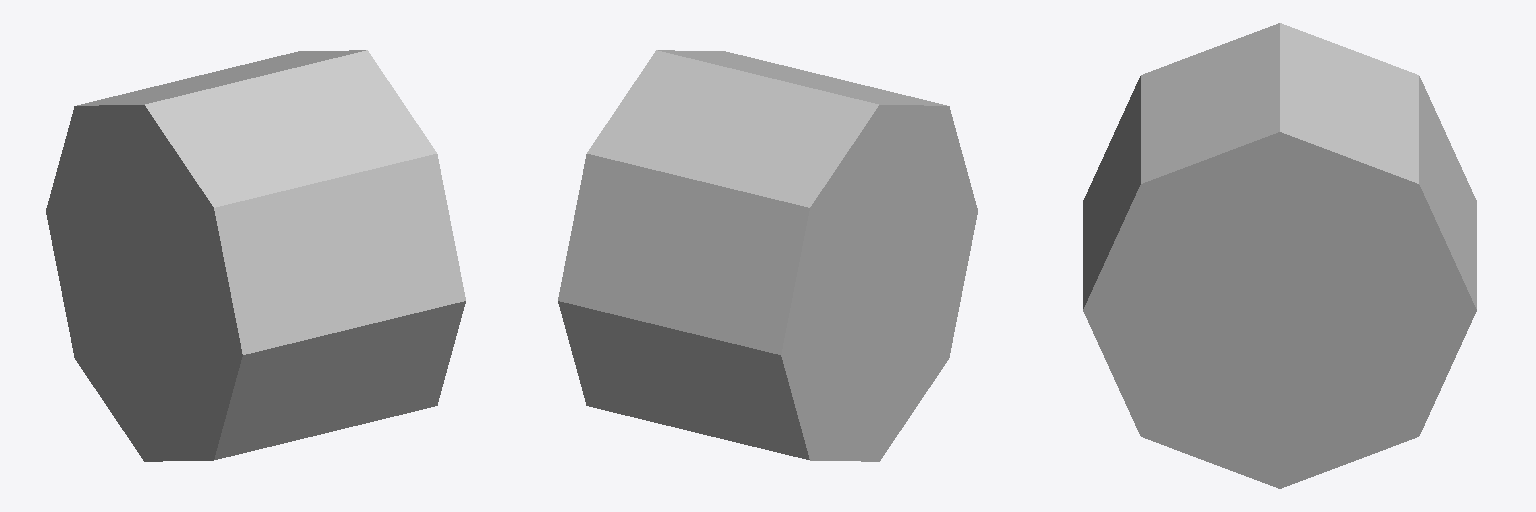
The model's file is WheelRearL.obj.
3 views of the same model, side by side, from view 1: azimuth 30°, elevation 25°; view 2: azimuth 150°, elevation 25°; view 3: azimuth 270°, elevation 25° (orthographic).
Visible parts, largest first — view 1: WheelRearL; view 2: WheelRearL; view 3: WheelRearL.
Part boxes in pixels (x1,y1,x2,y2): WheelRearL: (46, 50, 465, 461); WheelRearL: (558, 50, 977, 461); WheelRearL: (1083, 23, 1476, 488).
Size of the model in its own units: 0.9642 by 1.47 by 1.47.